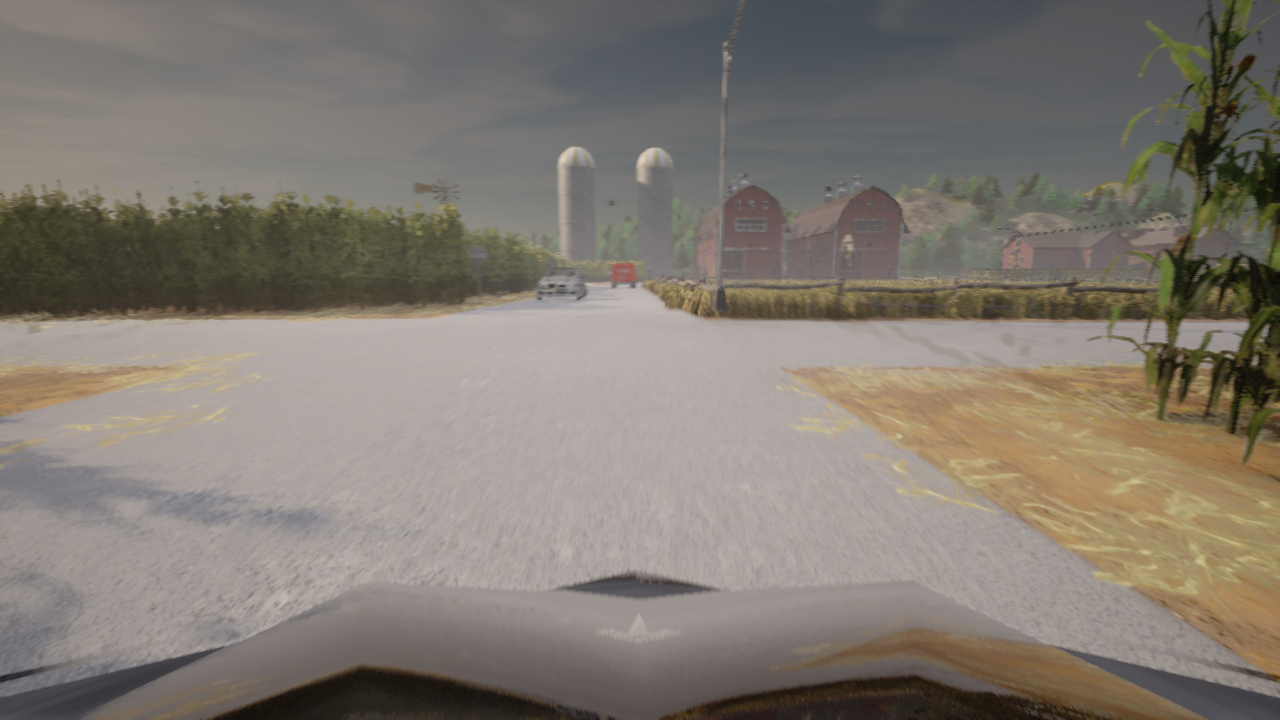cyclist: (0, 569, 1279, 719), (535, 267, 585, 300), (611, 264, 635, 287), (672, 274, 676, 275)
